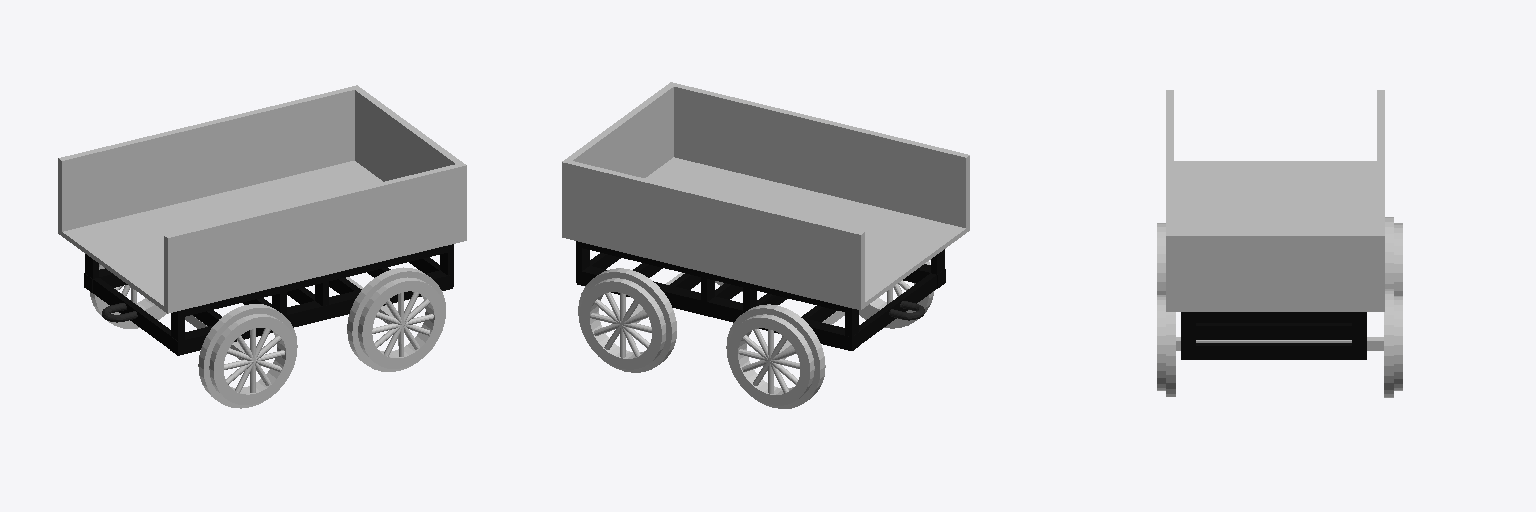
3 views of the same model, side by side, from view 1: azimuth 30°, elevation 25°; view 2: azimuth 150°, elevation 25°; view 3: azimuth 270°, elevation 25° (orthographic).
Visible parts, largest first — view 1: Cube.002_Cube.004, Chassis_Chariot_Cube.010, Circle_Circle.001, Circle.002_Circle.010, Circle.001_Circle.009, Circle.003_Circle.005, Circle.004_Circle.011; view 2: Cube.002_Cube.004, Chassis_Chariot_Cube.010, Circle.007_Circle.014, Circle.004_Circle.011, Circle.006_Circle.013, Circle.005_Circle.012, Circle.002_Circle.010; view 3: Cube.002_Cube.004, Chassis_Chariot_Cube.010, Circle.007_Circle.014, Circle_Circle.001, Circle.004_Circle.011, Cube_Cube.001, Circle.002_Circle.010.
Boxes of the visible parts, box(x1,y1,x2,y2) form: Cube.002_Cube.004: box(58, 85, 466, 313); Chassis_Chariot_Cube.010: box(84, 244, 453, 355); Circle_Circle.001: box(347, 267, 445, 371); Circle.002_Circle.010: box(198, 304, 297, 408); Circle.001_Circle.009: box(224, 328, 284, 392); Circle.003_Circle.005: box(372, 292, 433, 356); Circle.004_Circle.011: box(90, 264, 166, 328); Cube.002_Cube.004: box(562, 82, 969, 309); Chassis_Chariot_Cube.010: box(576, 241, 945, 350); Circle.007_Circle.014: box(578, 268, 676, 372); Circle.004_Circle.011: box(726, 304, 825, 408); Circle.006_Circle.013: box(590, 292, 651, 357); Circle.005_Circle.012: box(739, 329, 799, 393); Circle.002_Circle.010: box(859, 261, 933, 328); Cube.002_Cube.004: box(1166, 90, 1384, 311); Chassis_Chariot_Cube.010: box(1181, 312, 1366, 359); Circle.007_Circle.014: box(1384, 289, 1402, 397); Circle_Circle.001: box(1157, 295, 1175, 396); Circle.004_Circle.011: box(1385, 217, 1402, 295); Cube_Cube.001: box(1176, 337, 1383, 350); Circle.002_Circle.010: box(1157, 223, 1165, 294).
Size of the model in its own units: 2.28 by 1.34 by 1.57.